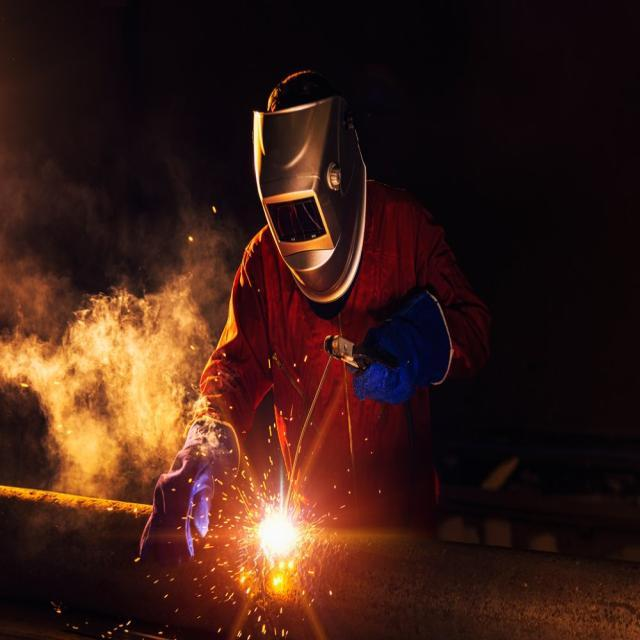with_helmet: (253, 95, 366, 303)
